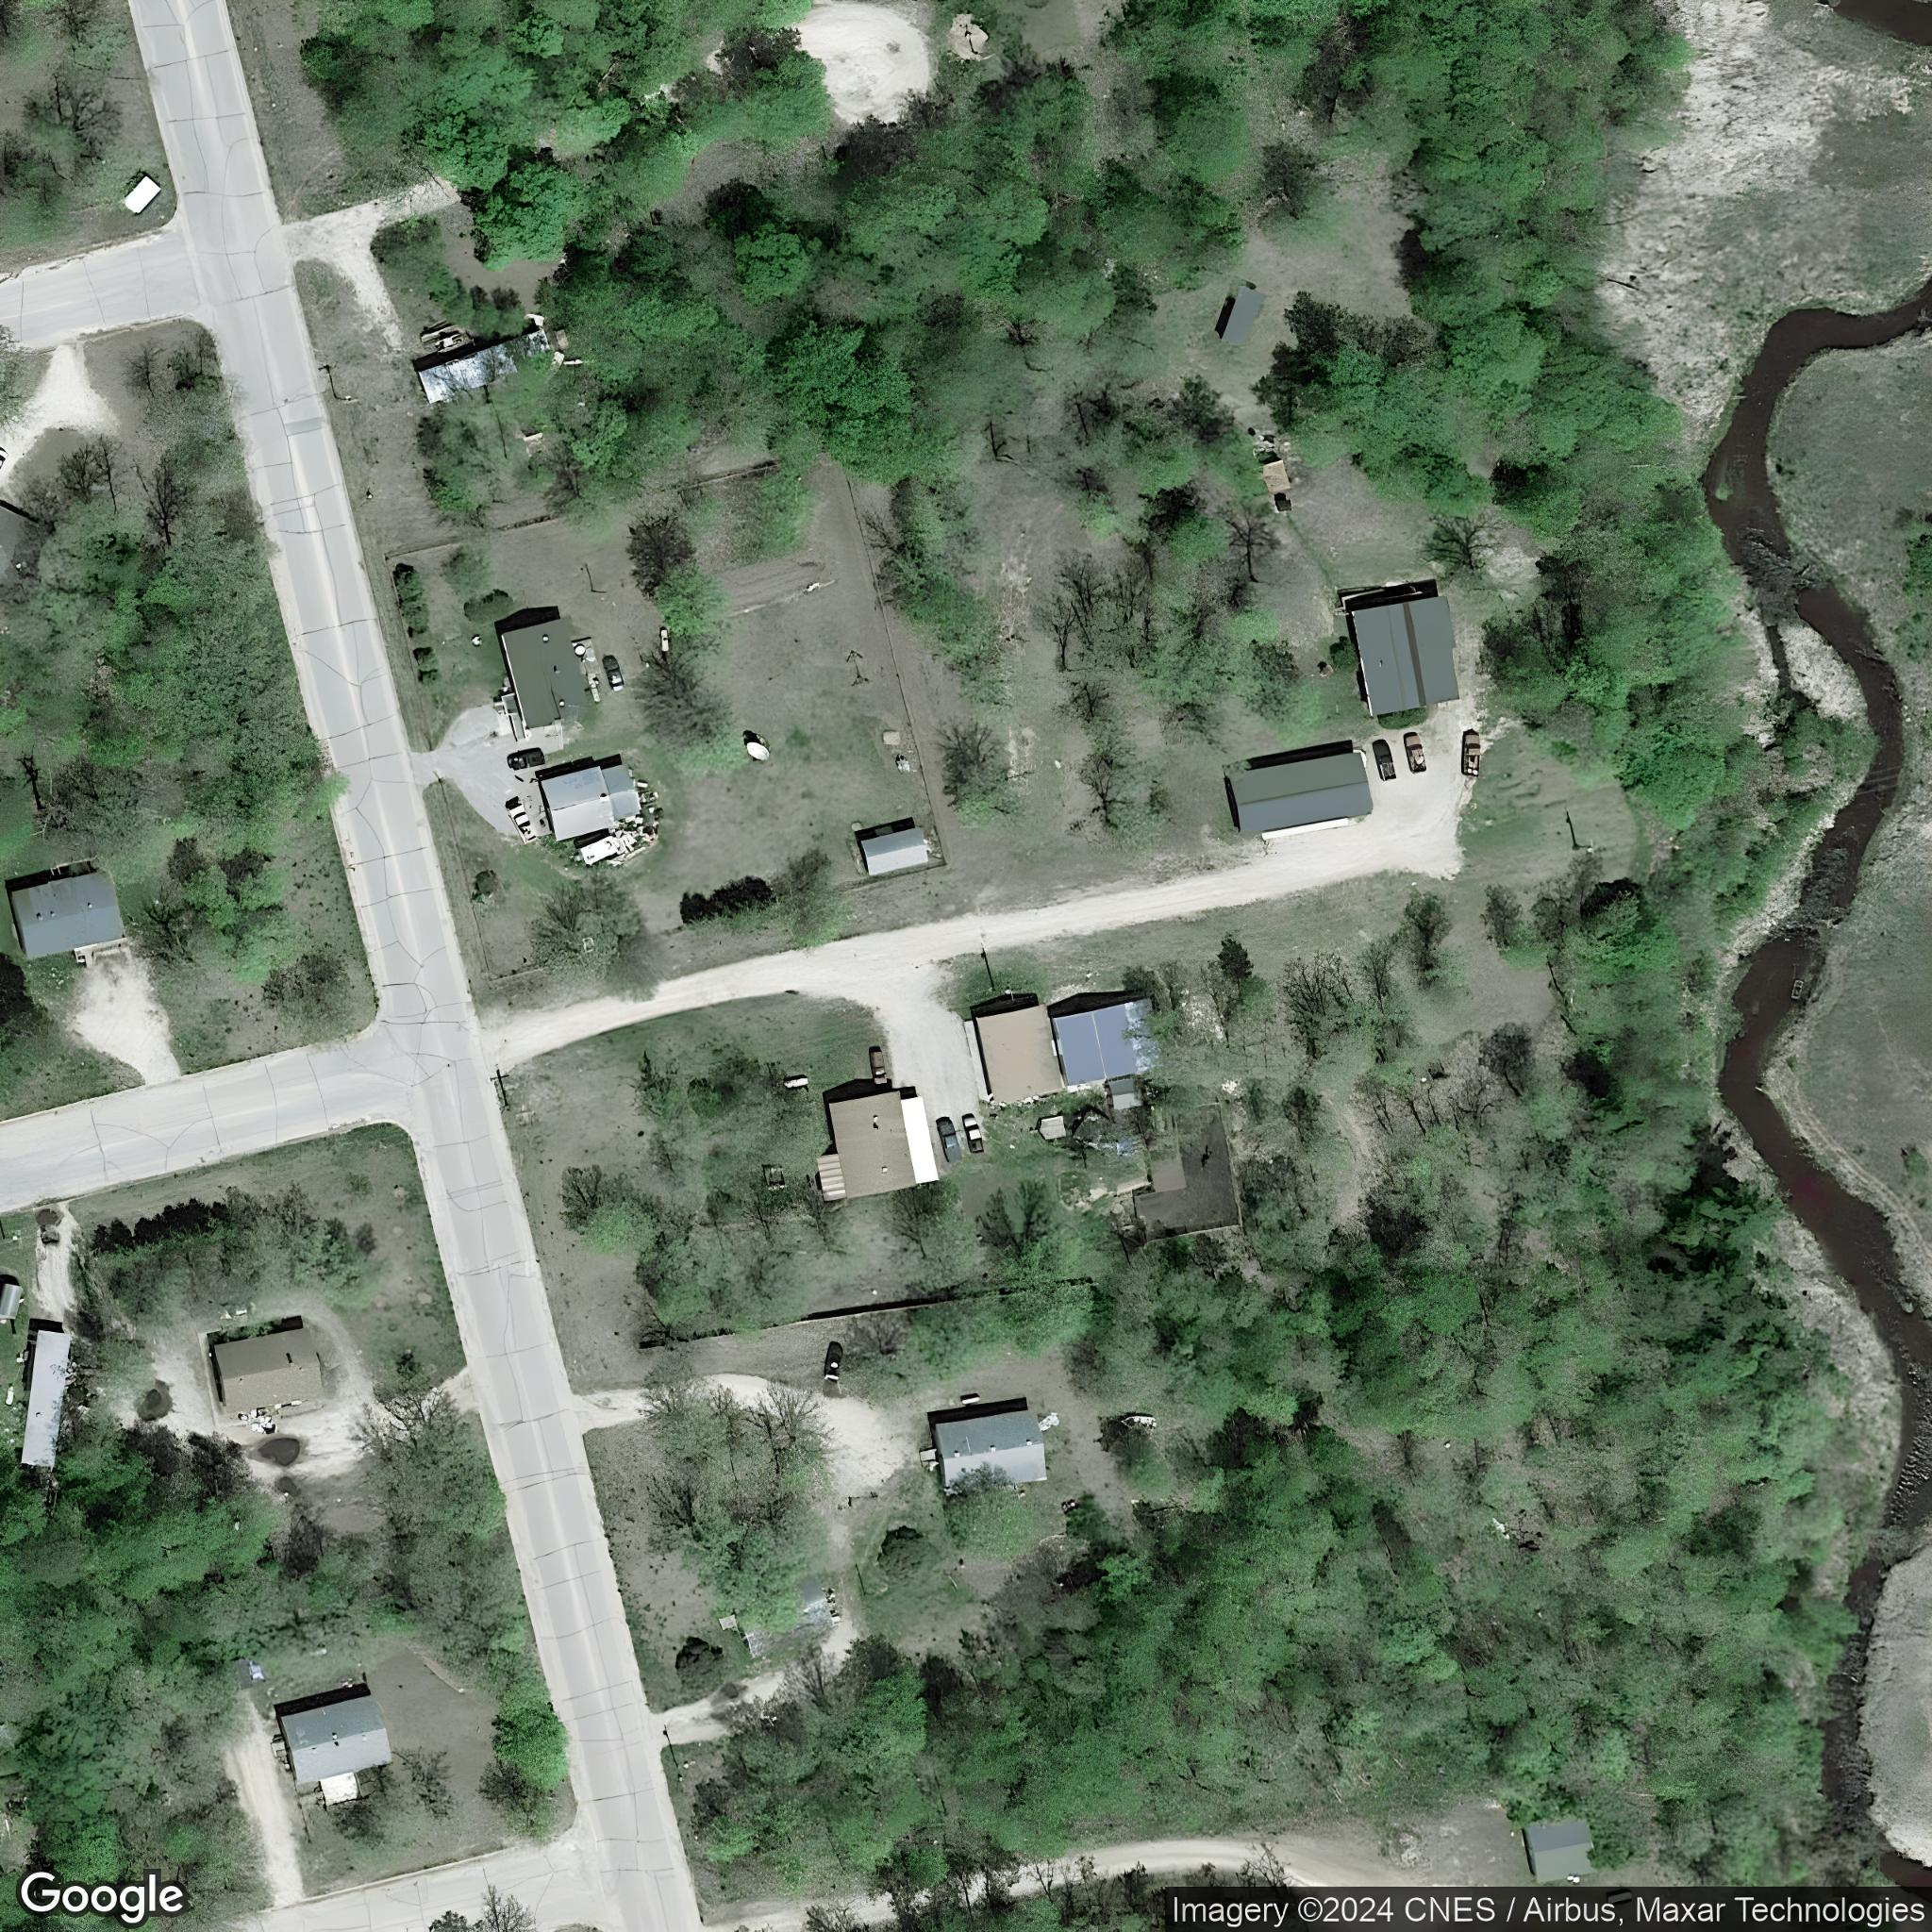Garage: (1228, 750, 1375, 835), (1054, 998, 1166, 1086), (977, 1003, 1067, 1106), (1520, 1813, 1594, 1886), (860, 826, 931, 878)
House: (1348, 594, 1463, 718), (814, 1090, 939, 1203), (280, 1693, 395, 1806), (9, 867, 120, 962), (499, 617, 593, 731), (212, 1325, 326, 1417), (932, 1408, 1049, 1488), (731, 1578, 837, 1661), (540, 763, 640, 842)
Propane: (782, 1072, 810, 1092), (2, 1382, 16, 1408), (308, 1644, 329, 1660), (658, 626, 671, 653), (961, 1392, 980, 1407)
Trailer: (418, 329, 554, 407), (18, 1329, 71, 1470), (579, 833, 621, 865)
